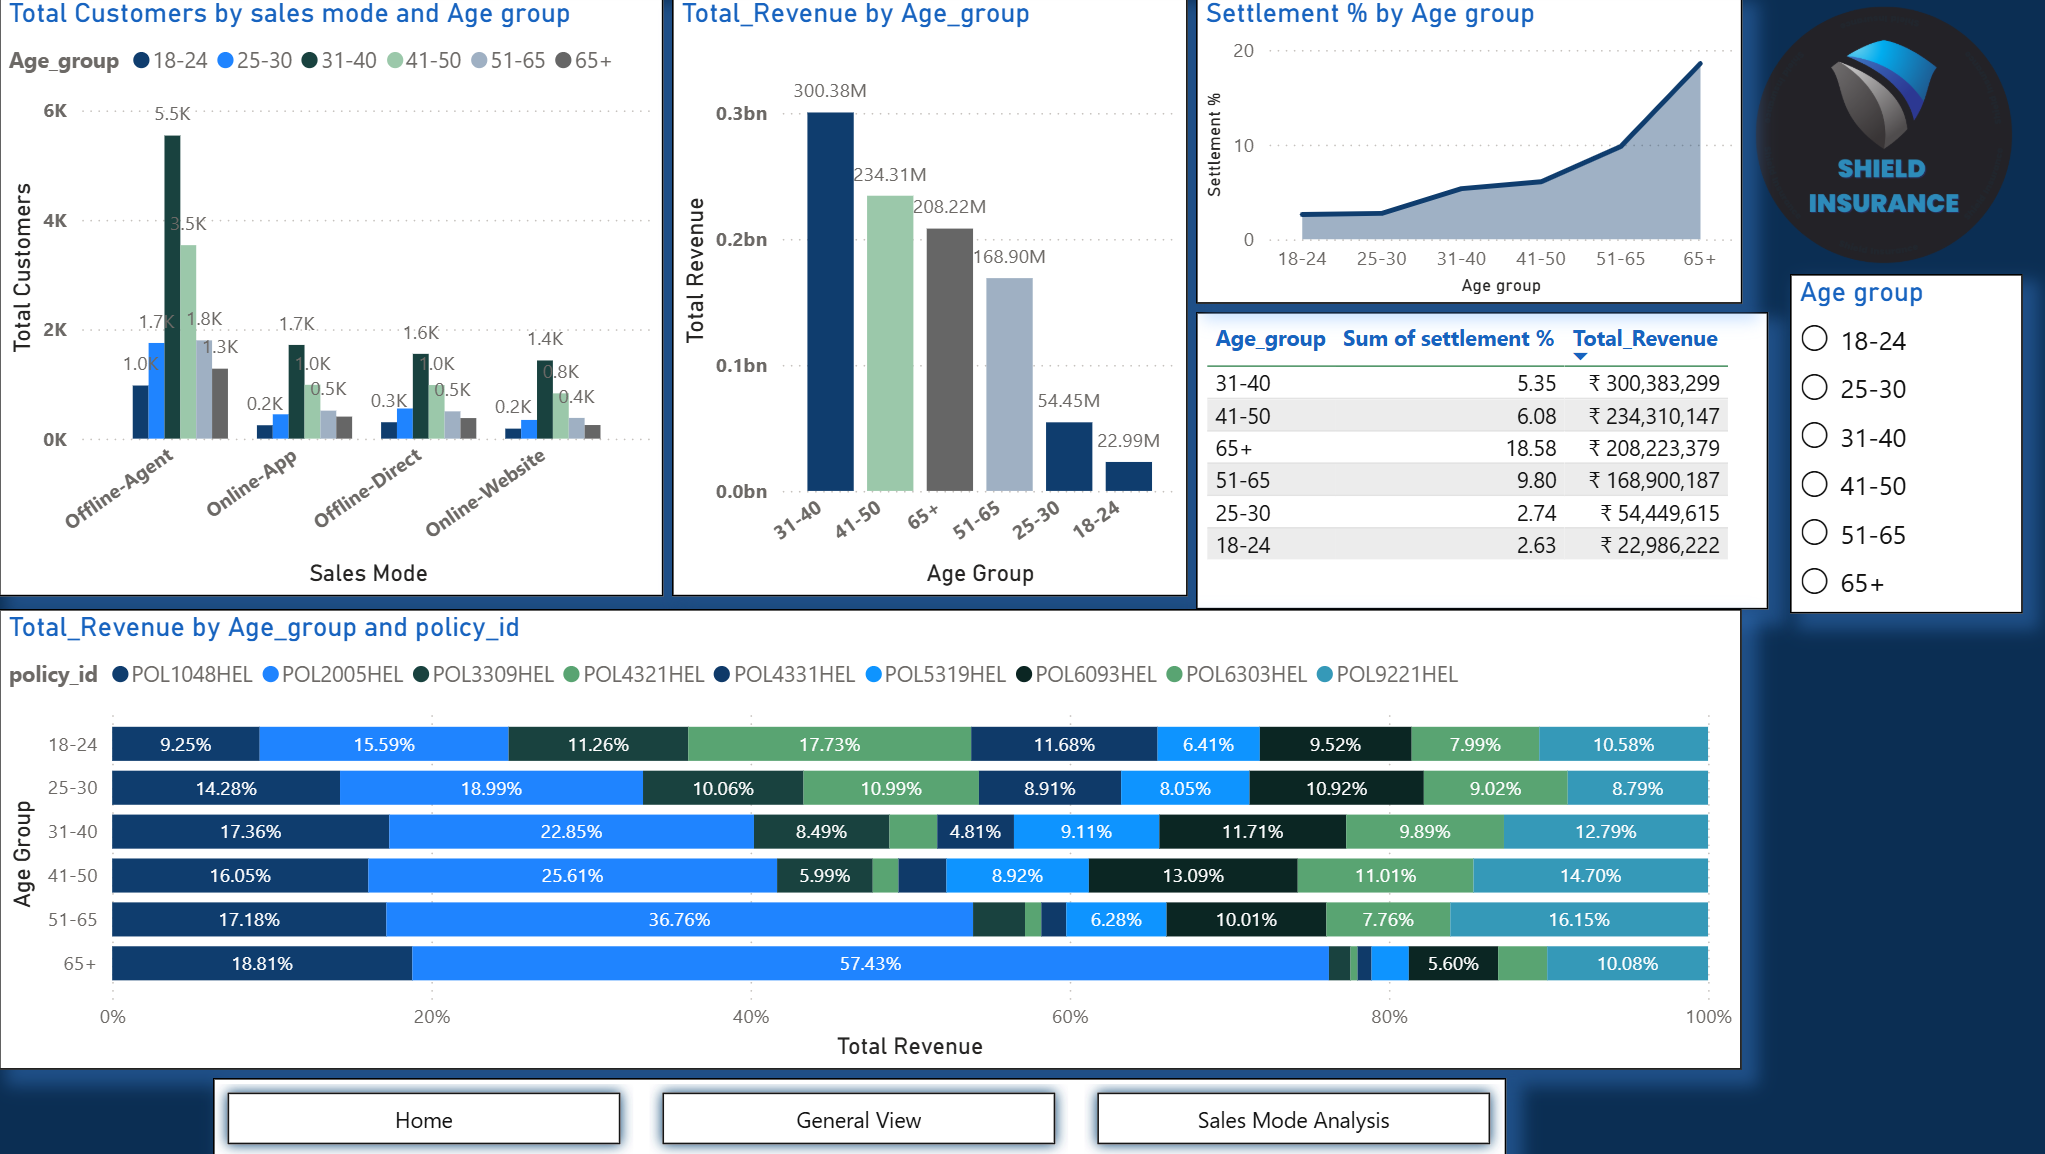

This screenshot's page, from the dashboard's own definition file:
{"tool":"powerbi","page":{"name":"Age Group Analysis","canvas":[1280,720],"ordinal":3},"visuals":[{"type":"clusteredColumnChart","title":"Total Customers by sales mode and Age group","fields":{"Y":["dim_customer.Total_Customers"],"Category":["fact_premiums.sales_mode"],"Series":["dim_customer.Age_group"]},"box":[9.3,0,411.3,371.8],"z":0},{"type":"clusteredColumnChart","fields":{"Y":["fact_premiums.Total_Revenue"],"Category":["dim_customer.Age_group"]},"box":[425.6,0,318.6,371.8],"z":1000},{"type":"tableEx","fields":{"Values":["fact_settlements.Age_group","Sum(fact_settlements.settlement %)","fact_premiums.Total_Revenue"]},"box":[749.7,196.1,353.8,183.7],"z":2000},{"type":"hundredPercentStackedBarChart","fields":{"Category":["dim_customer.Age_group"],"Series":["fact_premiums.policy_id"],"Y":["fact_premiums.Total_Revenue"]},"box":[9.3,379.8,1078.1,284.5],"z":3000},{"type":"image","box":[1070.7,0,209.1,172.6],"z":4000},{"type":"listSlicer","title":"Age group","fields":{"Values":["dim_customer.Age_group"]},"box":[1117.1,172.6,143.5,210.3],"z":5000},{"type":"pageNavigator","box":[141.6,669.9,799.8,50.1],"z":6000},{"type":"areaChart","fields":{"Category":["fact_settlements.Age_group"],"Y":["Sum(fact_settlements.settlement %)"]},"box":[749.7,0,337.7,191.1],"z":7000}]}

Visuals, with their boxes in screenshot pixels (x1, y1, x2, y2), scaled from the page's 1280x720 canvas onto the 2045x1154 screenshot:
"Total Customers by sales mode and Age group" clusteredColumnChart: l=15, t=0, r=672, b=596
clusteredColumnChart - fact_premiums.Total_Revenue x dim_customer.Age_group: l=680, t=0, r=1189, b=596
tableEx - fact_settlements.Age_group x Sum(fact_settlements.settlement %): l=1198, t=314, r=1763, b=609
hundredPercentStackedBarChart - dim_customer.Age_group x fact_premiums.policy_id: l=15, t=609, r=1737, b=1065
image: l=1711, t=0, r=2044, b=277
"Age group" listSlicer: l=1785, t=277, r=2014, b=614
pageNavigator: l=226, t=1074, r=1504, b=1153
areaChart - fact_settlements.Age_group x Sum(fact_settlements.settlement %): l=1198, t=0, r=1737, b=306
